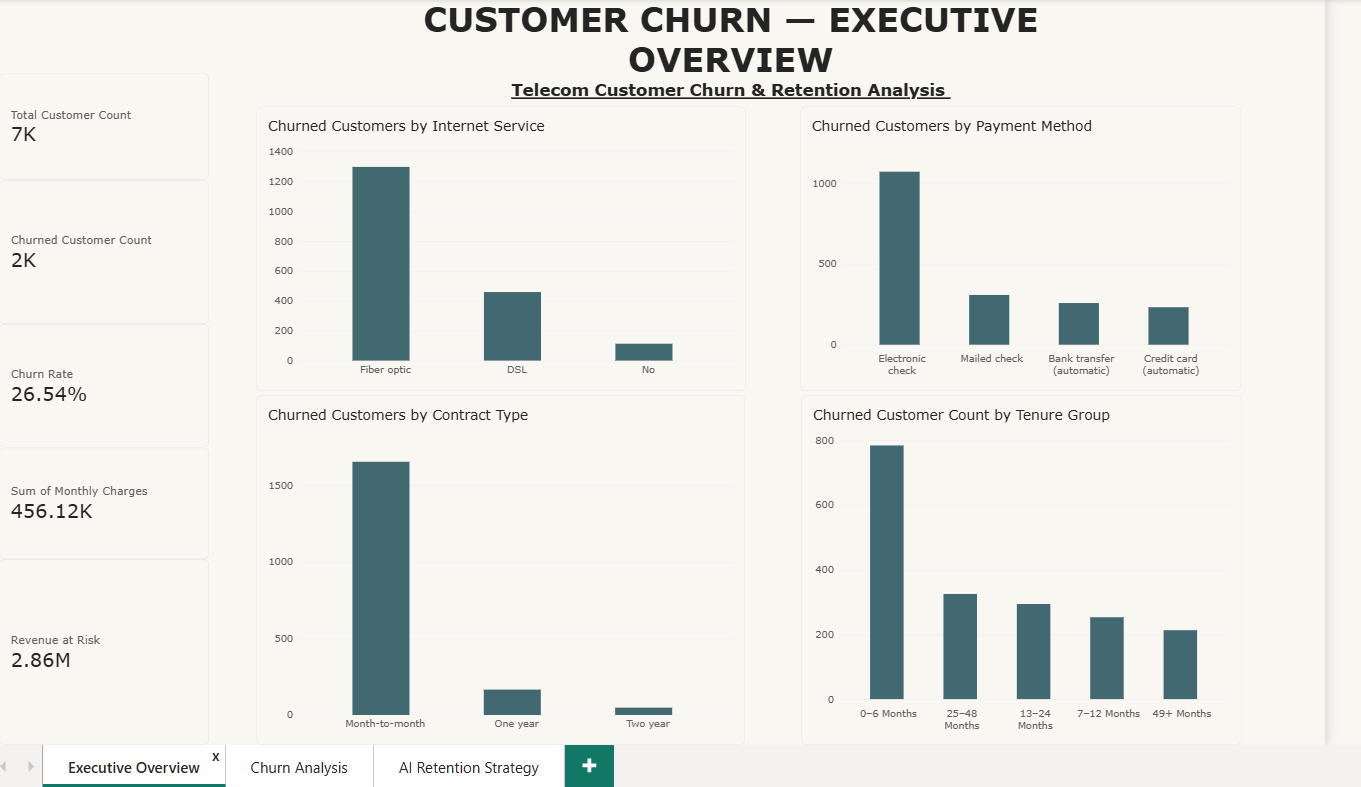

Layout of this report page (visuals, bound fields, positions):
{"tool":"powerbi","page":{"name":"Executive Overview","canvas":[1920,1080],"ordinal":0},"visuals":[{"type":"textbox","box":[466.9,0,1185.3,155.6],"z":0},{"type":"cardVisual","fields":{"Data":["Telco_Churn.Total Customer Count"]},"box":[0,106.8,304,155.6],"z":1},{"type":"cardVisual","fields":{"Data":["Telco_Churn.Churned Customer Count"]},"box":[0,262.4,304,208.1],"z":2},{"type":"cardVisual","fields":{"Data":["Telco_Churn.Churn Rate"]},"box":[0,470.5,304,179.2],"z":3},{"type":"cardVisual","fields":{"Data":["Sum(Telco_Churn.Monthly Charges)"]},"box":[0,649.7,304,161.1],"z":4},{"type":"cardVisual","fields":{"Data":["Telco_Churn.Revenue at Risk"]},"box":[0,810.7,304,269.6],"z":5},{"type":"clusteredColumnChart","title":"Churned Customers by Contract Type","fields":{"Category":["Telco_Churn.Contract"],"Y":["Telco_Churn.Churned Customer Count"]},"box":[372.8,573.7,707.6,506.7],"z":6},{"type":"clusteredColumnChart","title":"Churned Customers by Internet Service","fields":{"Category":["Telco_Churn.Internet Service"],"Y":["Telco_Churn.Churned Customer Count"]},"box":[372.6,156.4,708.1,411.7],"z":7},{"type":"clusteredColumnChart","title":"Churned Customers by Payment Method","fields":{"Category":["Telco_Churn.Payment Method"],"Y":["Telco_Churn.Churned Customer Count"]},"box":[1160.9,156.4,638.1,411.7],"z":8},{"type":"clusteredColumnChart","fields":{"Category":["Telco_Churn.Tenure Group"],"Y":["Telco_Churn.Churned Customer Count"]},"box":[1161.8,573.7,637,506.7],"z":9}]}

Visuals, with their boxes on the page's 1920x1080 design canvas (x1, y1, x2, y2). These are canvas units, not pixel positions in the 1361x787 screenshot, which may show the page scaled, cropped or inside an application window:
textbox: rect(467, 0, 1652, 156)
cardVisual - Telco_Churn.Total Customer Count: rect(0, 107, 304, 262)
cardVisual - Telco_Churn.Churned Customer Count: rect(0, 262, 304, 470)
cardVisual - Telco_Churn.Churn Rate: rect(0, 470, 304, 650)
cardVisual - Sum(Telco_Churn.Monthly Charges): rect(0, 650, 304, 811)
cardVisual - Telco_Churn.Revenue at Risk: rect(0, 811, 304, 1080)
"Churned Customers by Contract Type" clusteredColumnChart: rect(373, 574, 1080, 1080)
"Churned Customers by Internet Service" clusteredColumnChart: rect(373, 156, 1081, 568)
"Churned Customers by Payment Method" clusteredColumnChart: rect(1161, 156, 1799, 568)
clusteredColumnChart - Telco_Churn.Tenure Group x Telco_Churn.Churned Customer Count: rect(1162, 574, 1799, 1080)
